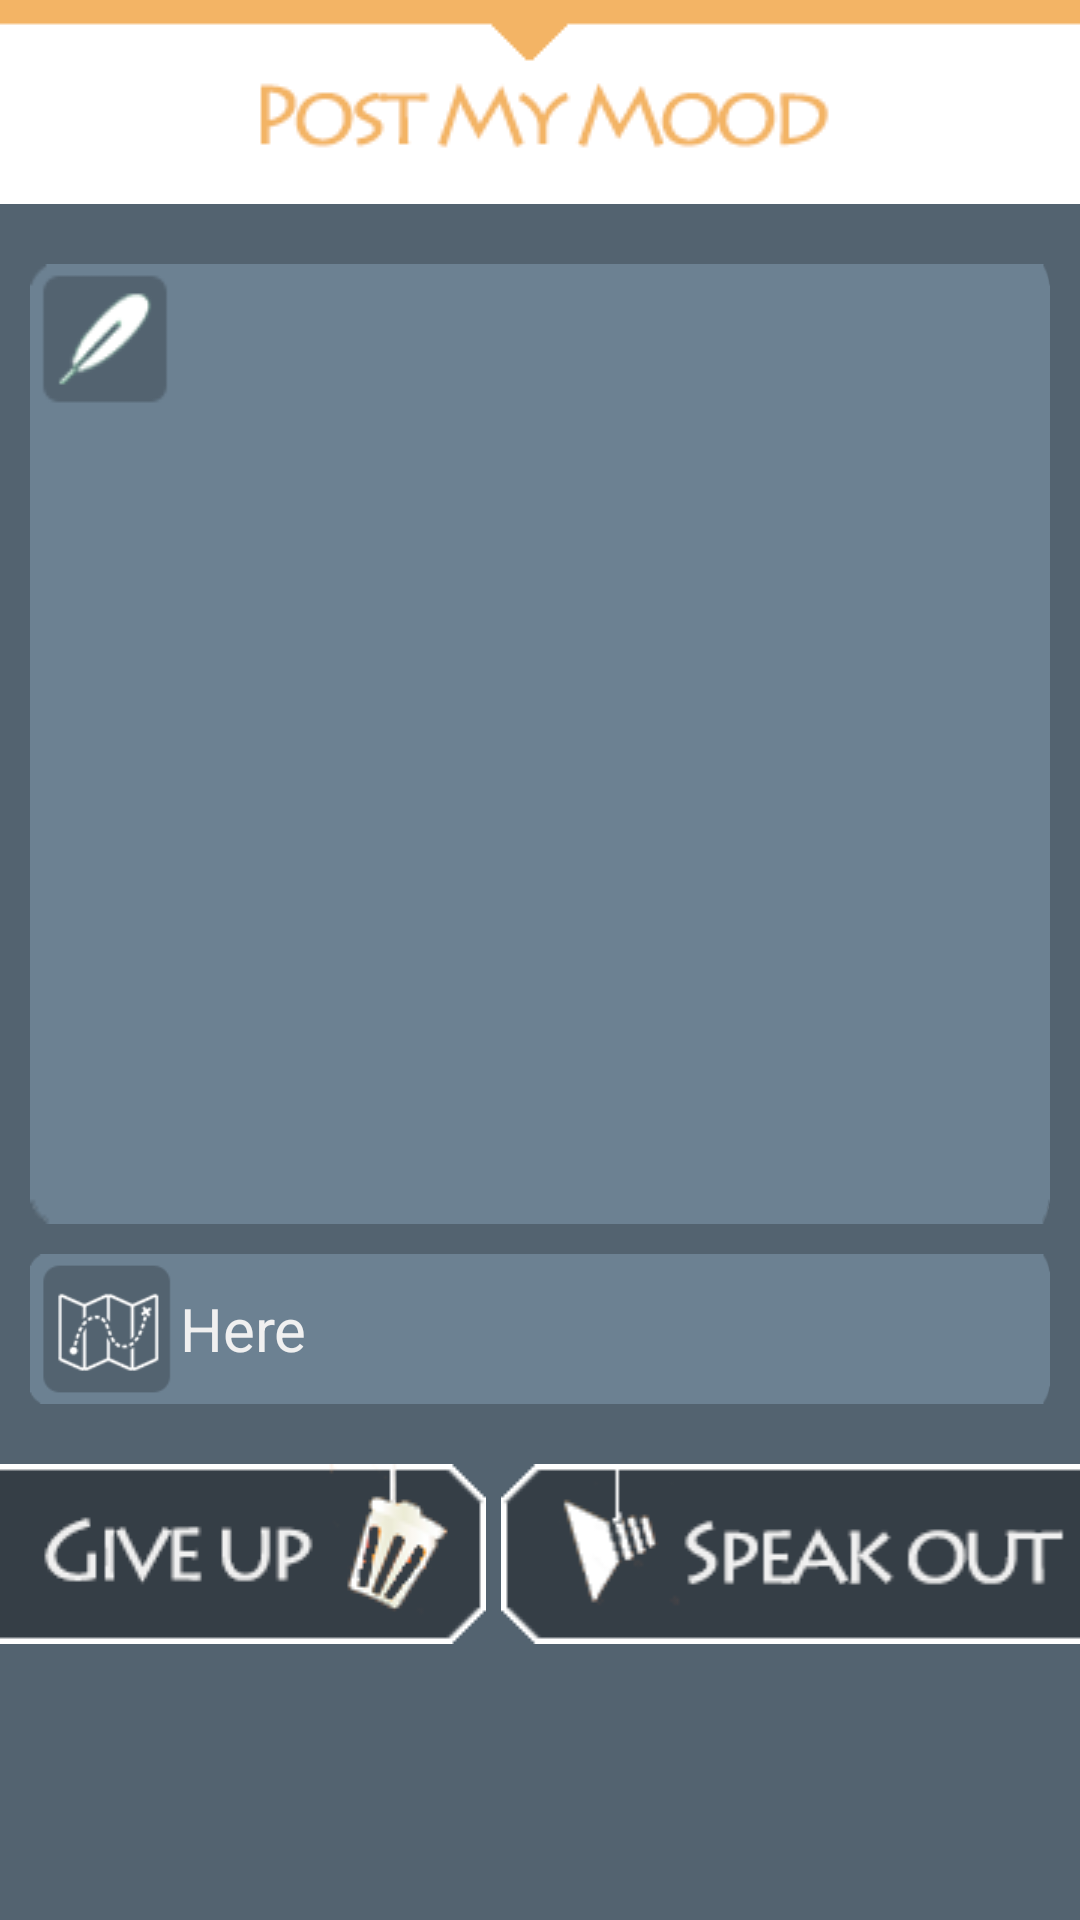

Point at icon controls on the screen. Image size 1080px x 1920px, points as [x,y].
left location: [105,1329]
left status: [105,339]
